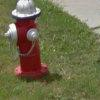Hydrant: (2, 0, 53, 79)
